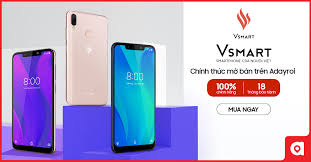vsmart: (107, 40, 158, 152), (10, 49, 59, 151), (63, 11, 110, 107)
